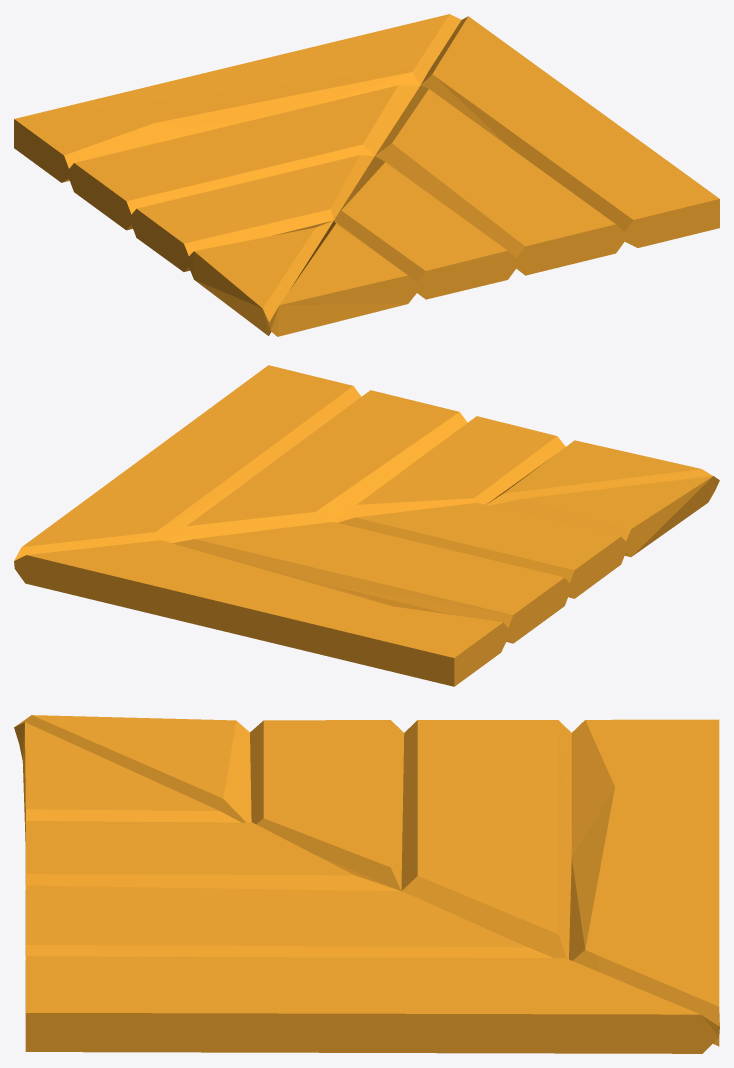
Rendered from SM_Machicolations_Corner_Shutter_A_Fantasy.fbx.
3 renders of one model, top to bottom at view 1: azimuth 30°, elevation 25°; view 2: azimuth 150°, elevation 25°; view 3: azimuth 270°, elevation 25°, orthographic. The views are drawn at different scales.
Parts seen in each view (by area): view 1: SM_Machicolations_Corner_Shutter_A_Fantasy; view 2: SM_Machicolations_Corner_Shutter_A_Fantasy; view 3: SM_Machicolations_Corner_Shutter_A_Fantasy.
Part boxes in pixels (<box>): SM_Machicolations_Corner_Shutter_A_Fantasy: <box>14,14,719,336</box>; SM_Machicolations_Corner_Shutter_A_Fantasy: <box>14,365,719,686</box>; SM_Machicolations_Corner_Shutter_A_Fantasy: <box>14,715,719,1053</box>.
Bounding box in the file's own units: 0.818 × 0.0551 × 0.818.
